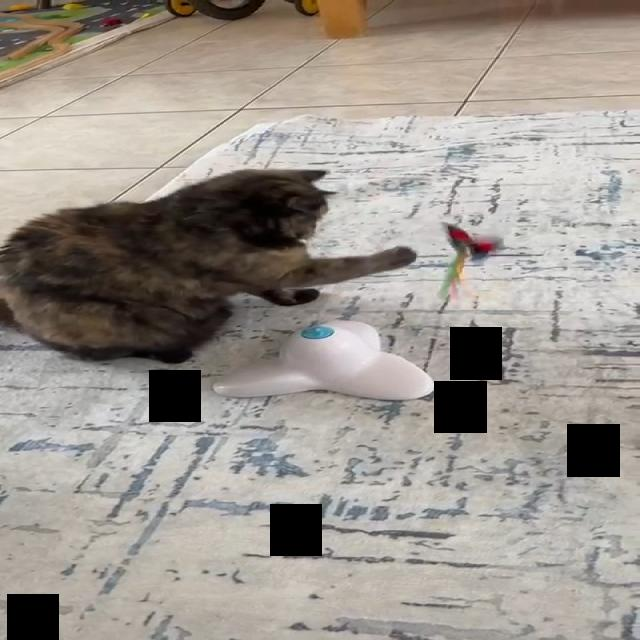authorized: (0, 167, 417, 364)
